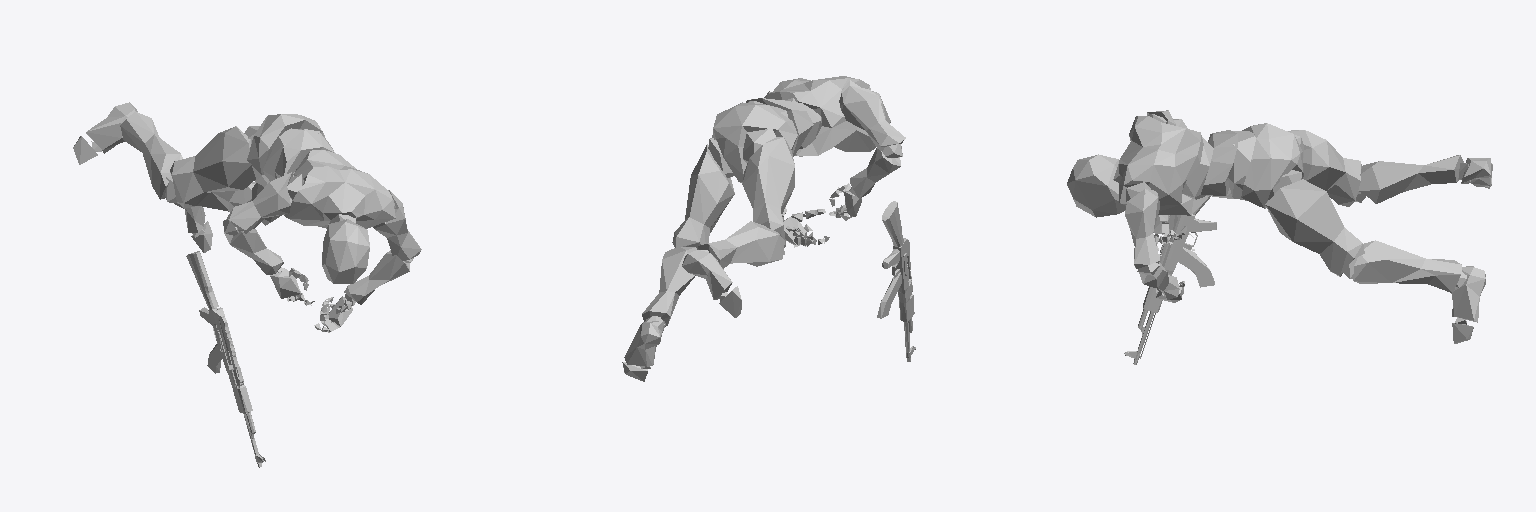
The model's file is EnemyDying_000035.obj.
The picture shows the model from 3 angles: view 1: azimuth 30°, elevation 25°; view 2: azimuth 150°, elevation 25°; view 3: azimuth 270°, elevation 25°; orthographic projection.
Visible parts, largest first — view 1: Alpha_Surface, AK-47_Cube, Alpha_Joints; view 2: Alpha_Surface, AK-47_Cube, Alpha_Joints; view 3: Alpha_Surface, Alpha_Joints, AK-47_Cube.
Part boxes in pixels (x1,y1,x2,y2): Alpha_Surface: (73, 102, 421, 331); AK-47_Cube: (186, 251, 265, 467); Alpha_Joints: (91, 126, 413, 332); Alpha_Surface: (622, 76, 905, 381); AK-47_Cube: (877, 201, 915, 361); Alpha_Joints: (640, 80, 902, 368); Alpha_Surface: (1067, 110, 1492, 343); Alpha_Joints: (1113, 114, 1488, 324); AK-47_Cube: (1124, 196, 1216, 364).
Bounding box in the file's own units: 164 × 230 × 313.